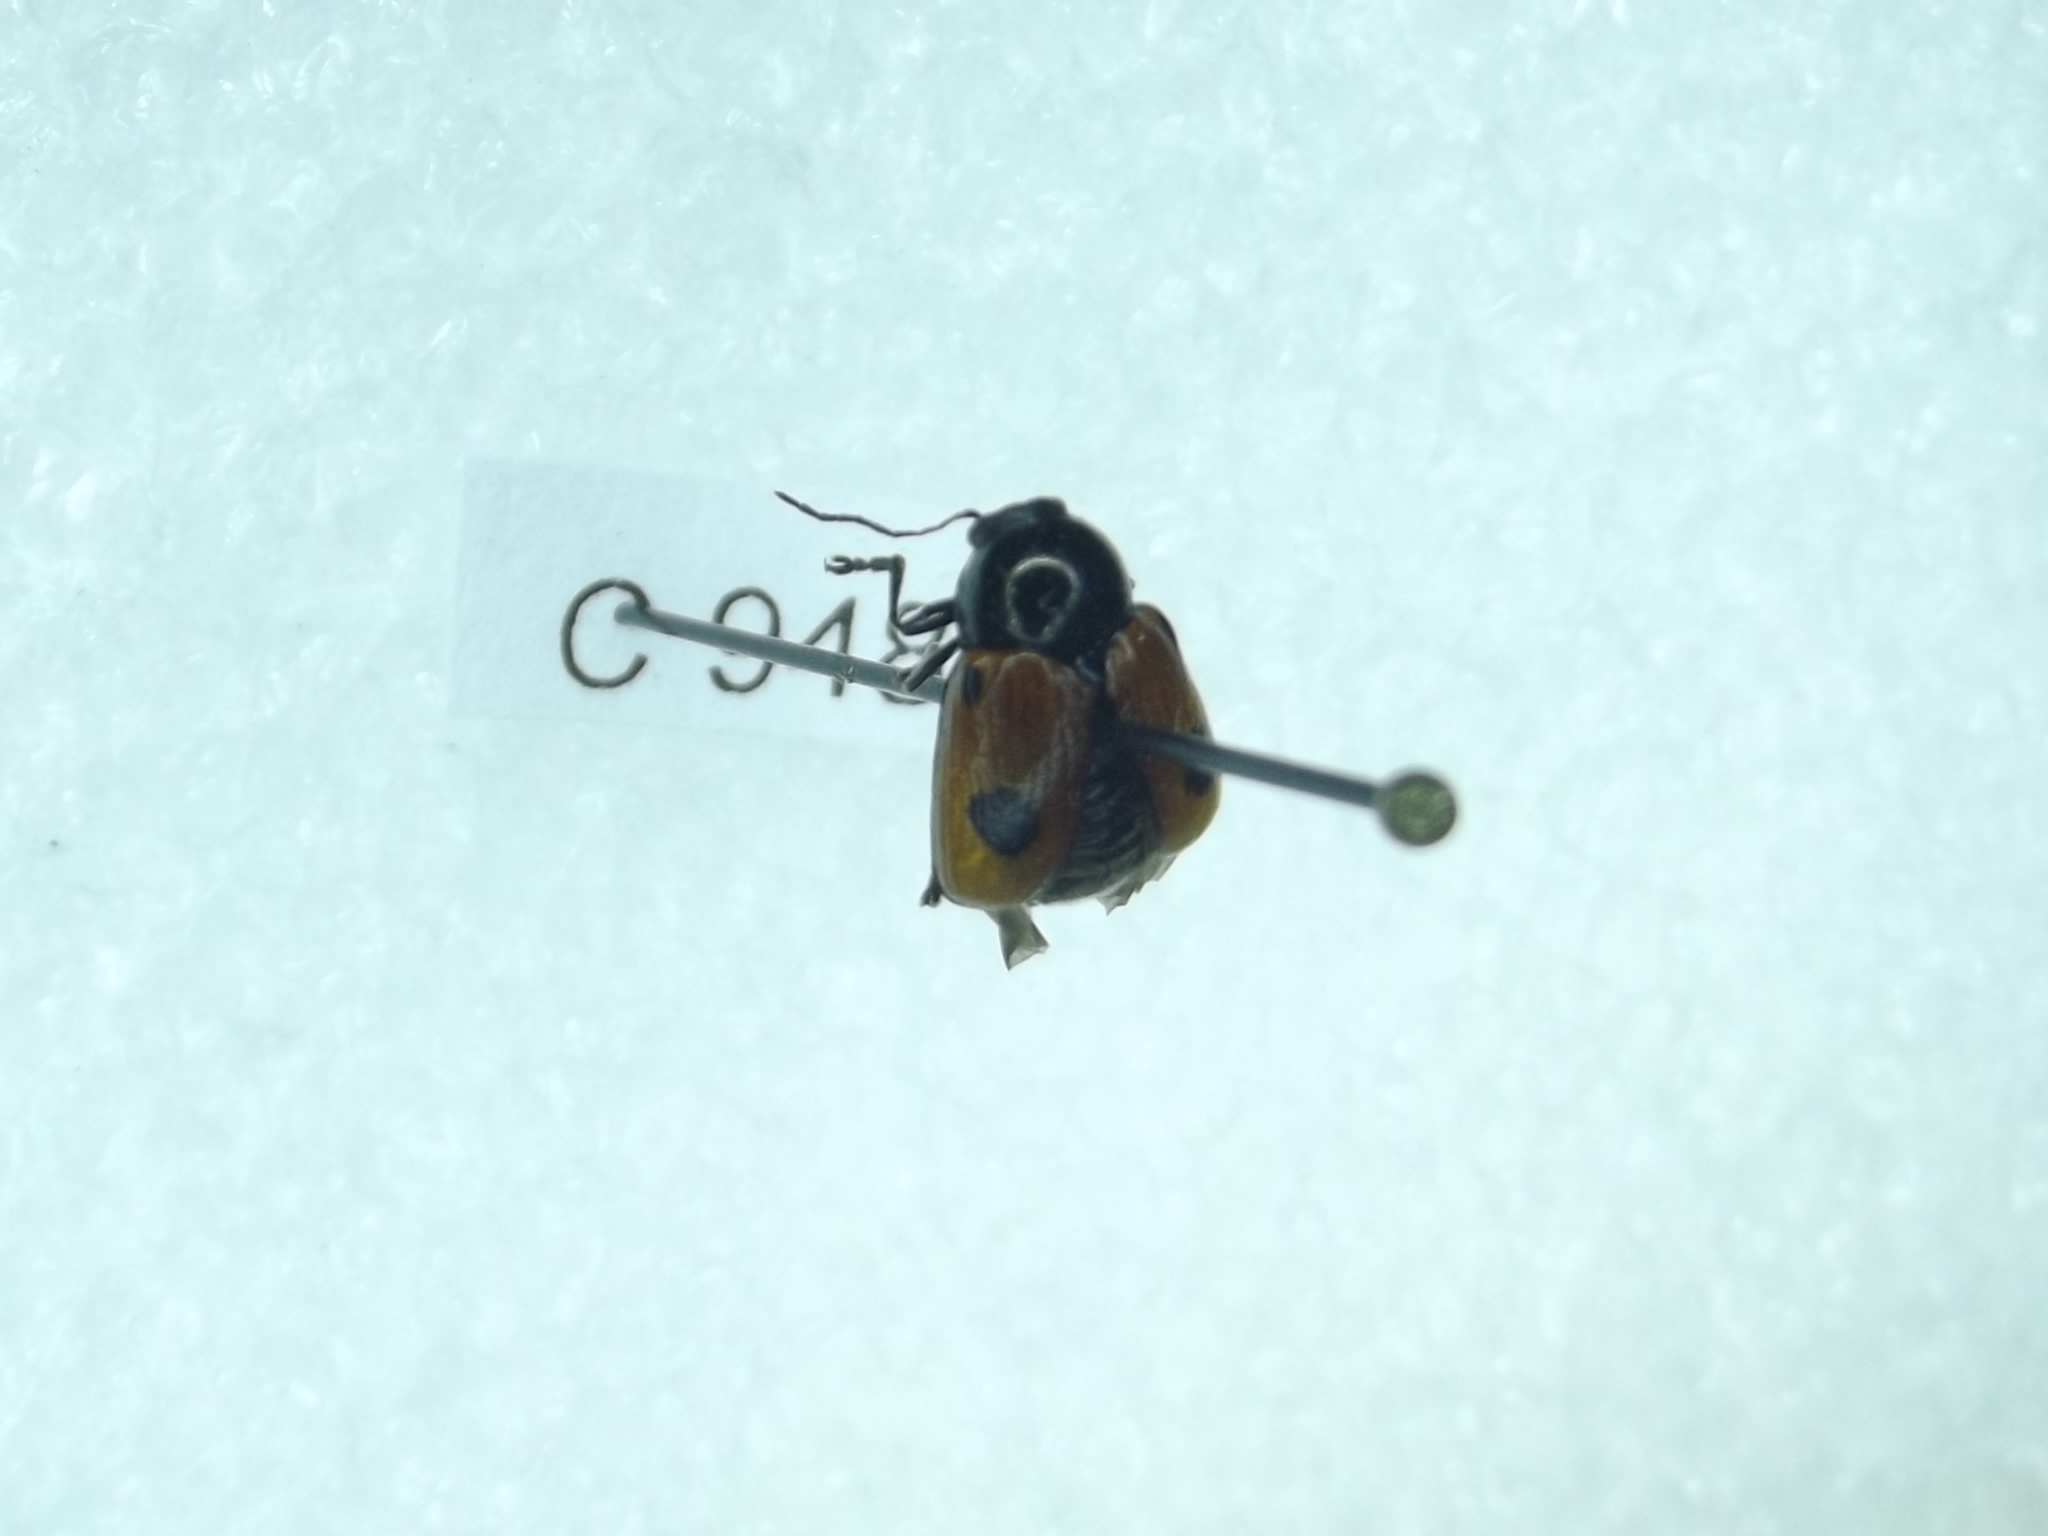Cryptocephalus_bipunctatus: (769, 465, 1235, 966)
